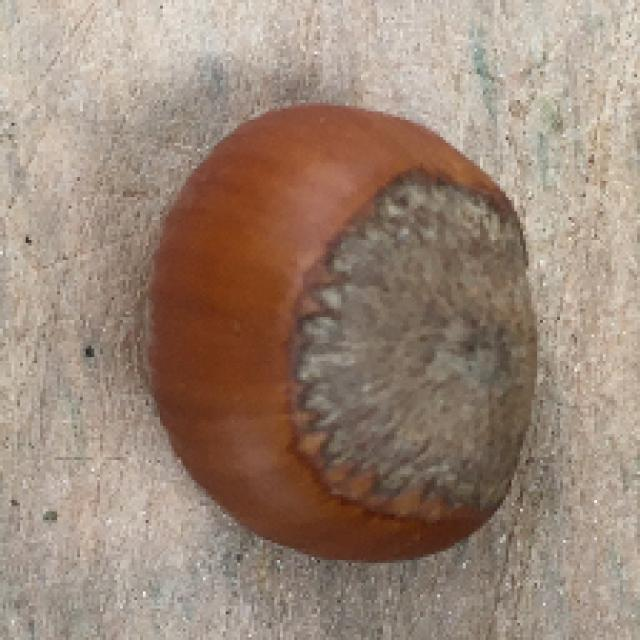qualityHazelnut: (138, 101, 528, 570)
